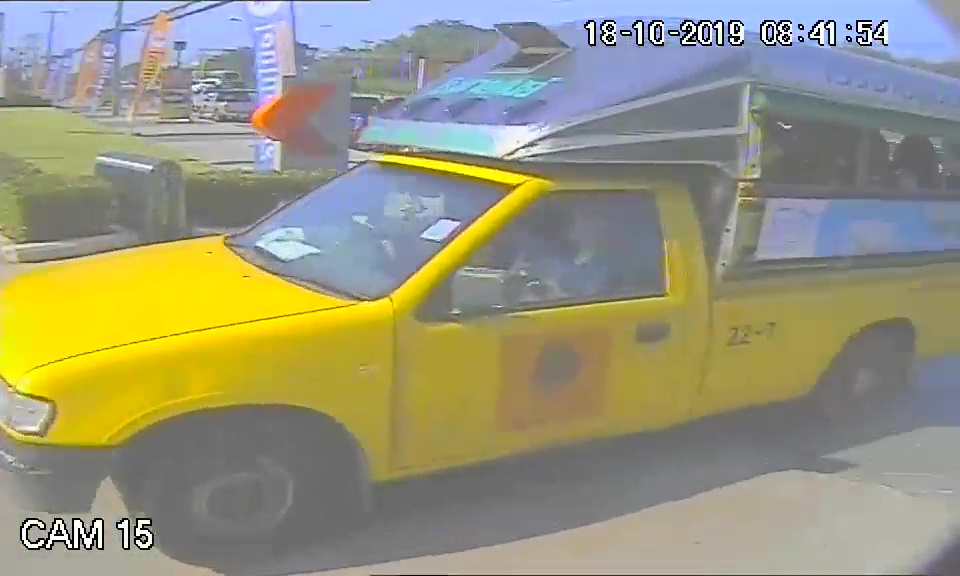pickup: (3, 142, 957, 512)
